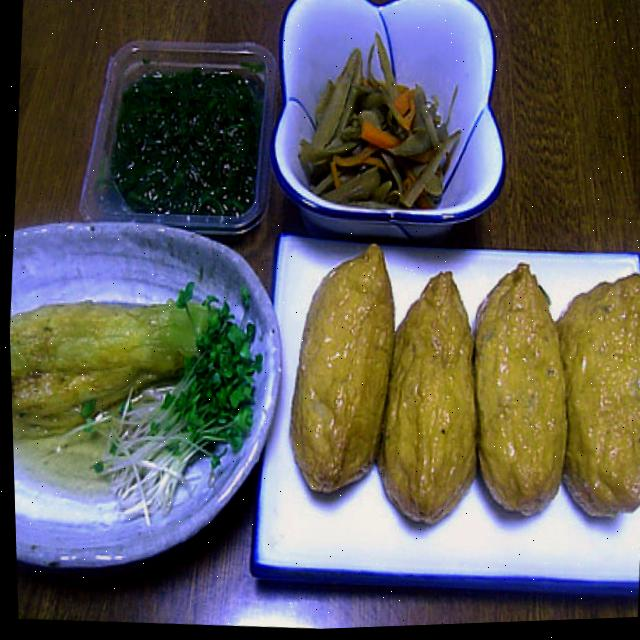蔬菜料理: (293, 15, 485, 228)
